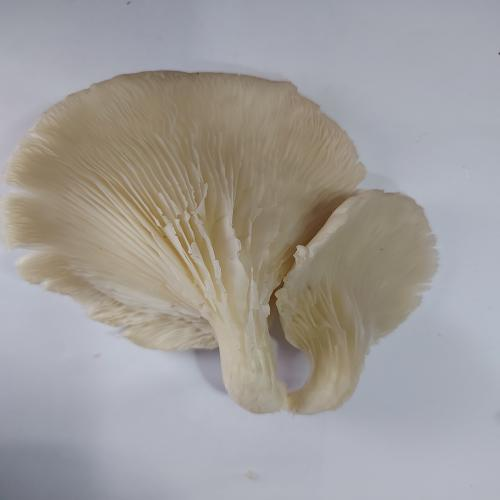Oyster Mushroom: (1, 69, 440, 416)
